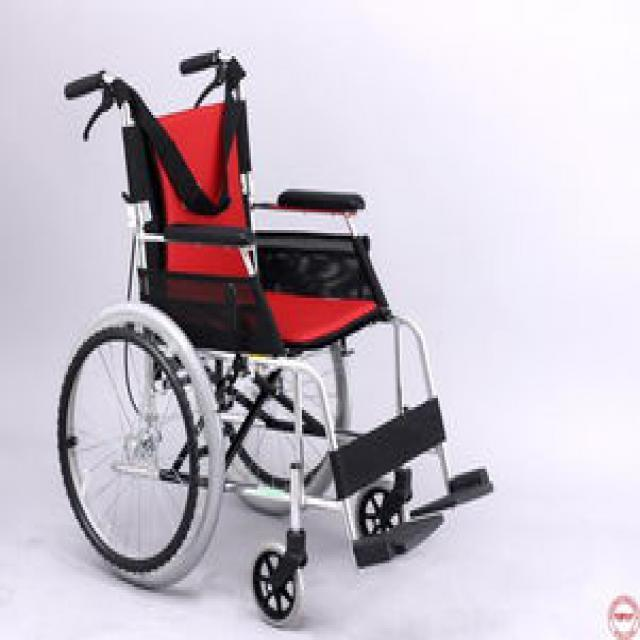wheelchairs: (48, 45, 496, 633)
